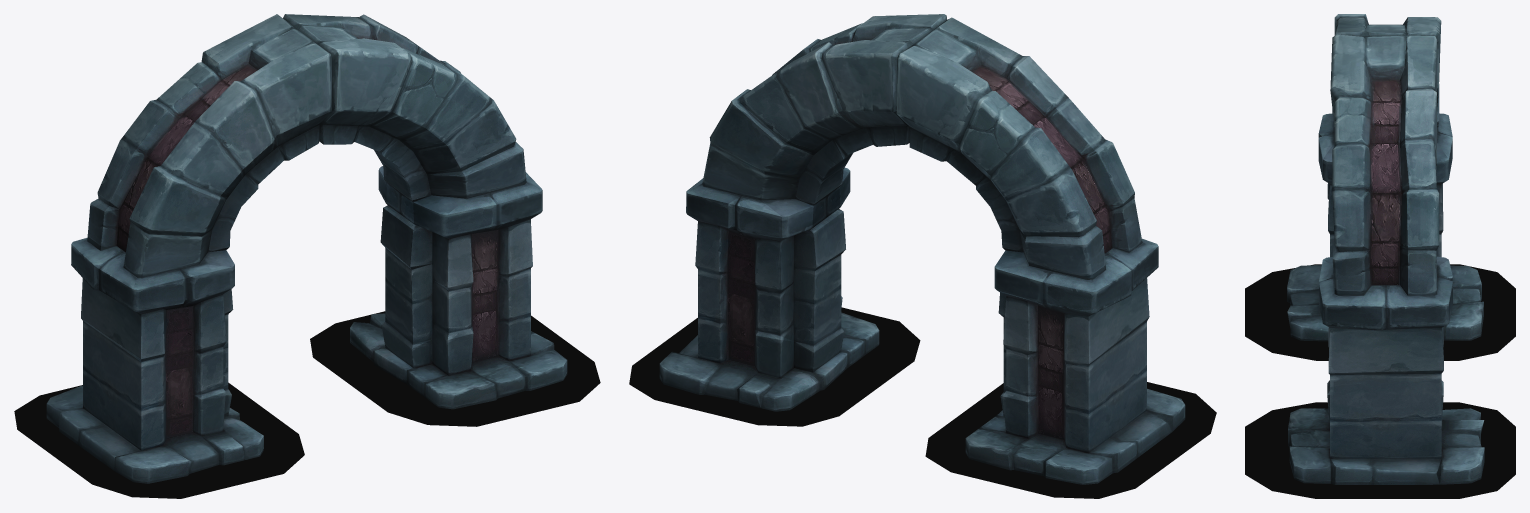
The model's file is arch.fbx.
3 views of the same model, side by side, from view 1: azimuth 30°, elevation 25°; view 2: azimuth 150°, elevation 25°; view 3: azimuth 270°, elevation 25° (orthographic). The views are drawn at different scales.
Parts seen in each view (by area): view 1: arch, shadow1; view 2: arch, shadow1; view 3: arch, shadow1.
Part boxes in pixels (left/top/right/bottom): arch: left=46, top=14, right=567, bottom=483; shadow1: left=14, top=311, right=600, bottom=498; arch: left=659, top=14, right=1185, bottom=484; shadow1: left=629, top=307, right=1216, bottom=498; arch: left=1287, top=14, right=1484, bottom=484; shadow1: left=1245, top=264, right=1515, bottom=498.
Bounding box in the file's own units: 379 × 263 × 185.
